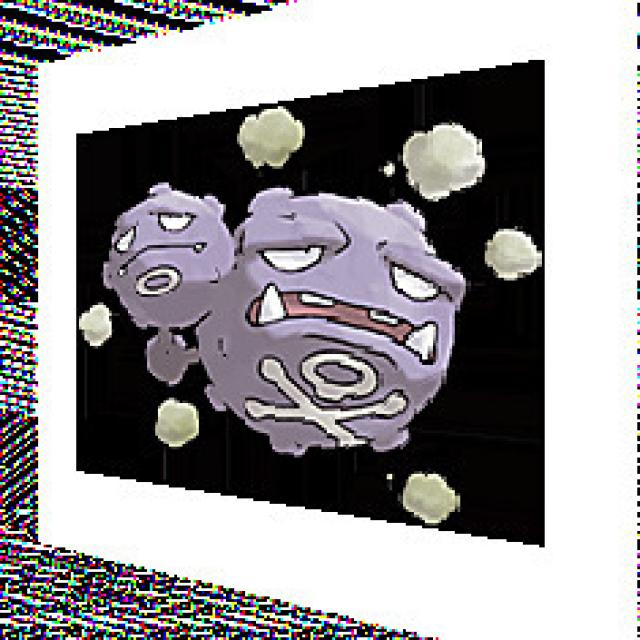Weezing: (96, 179, 468, 458)
